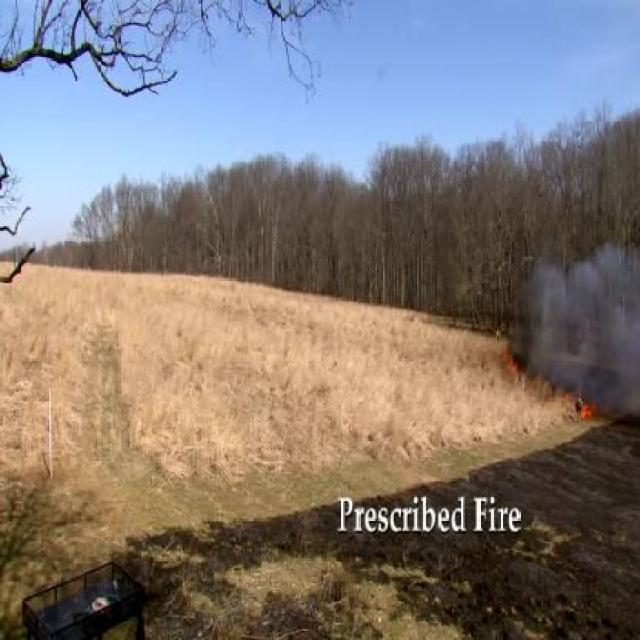Fire: (504, 348, 518, 370), (582, 400, 596, 418)
